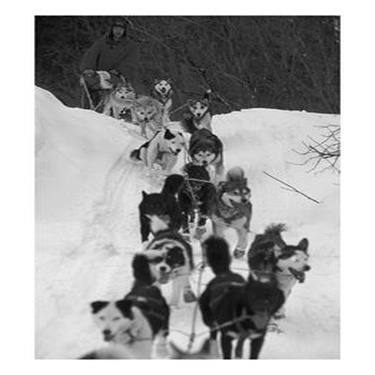dog: (199, 233, 287, 357), (84, 248, 172, 343), (143, 262, 217, 352), (240, 219, 315, 302), (132, 222, 201, 312), (206, 157, 258, 260), (131, 168, 199, 238), (124, 121, 186, 175), (77, 319, 149, 359), (177, 160, 215, 223), (188, 125, 228, 183), (180, 87, 217, 135), (97, 80, 135, 125), (132, 95, 166, 138), (151, 73, 174, 121)
